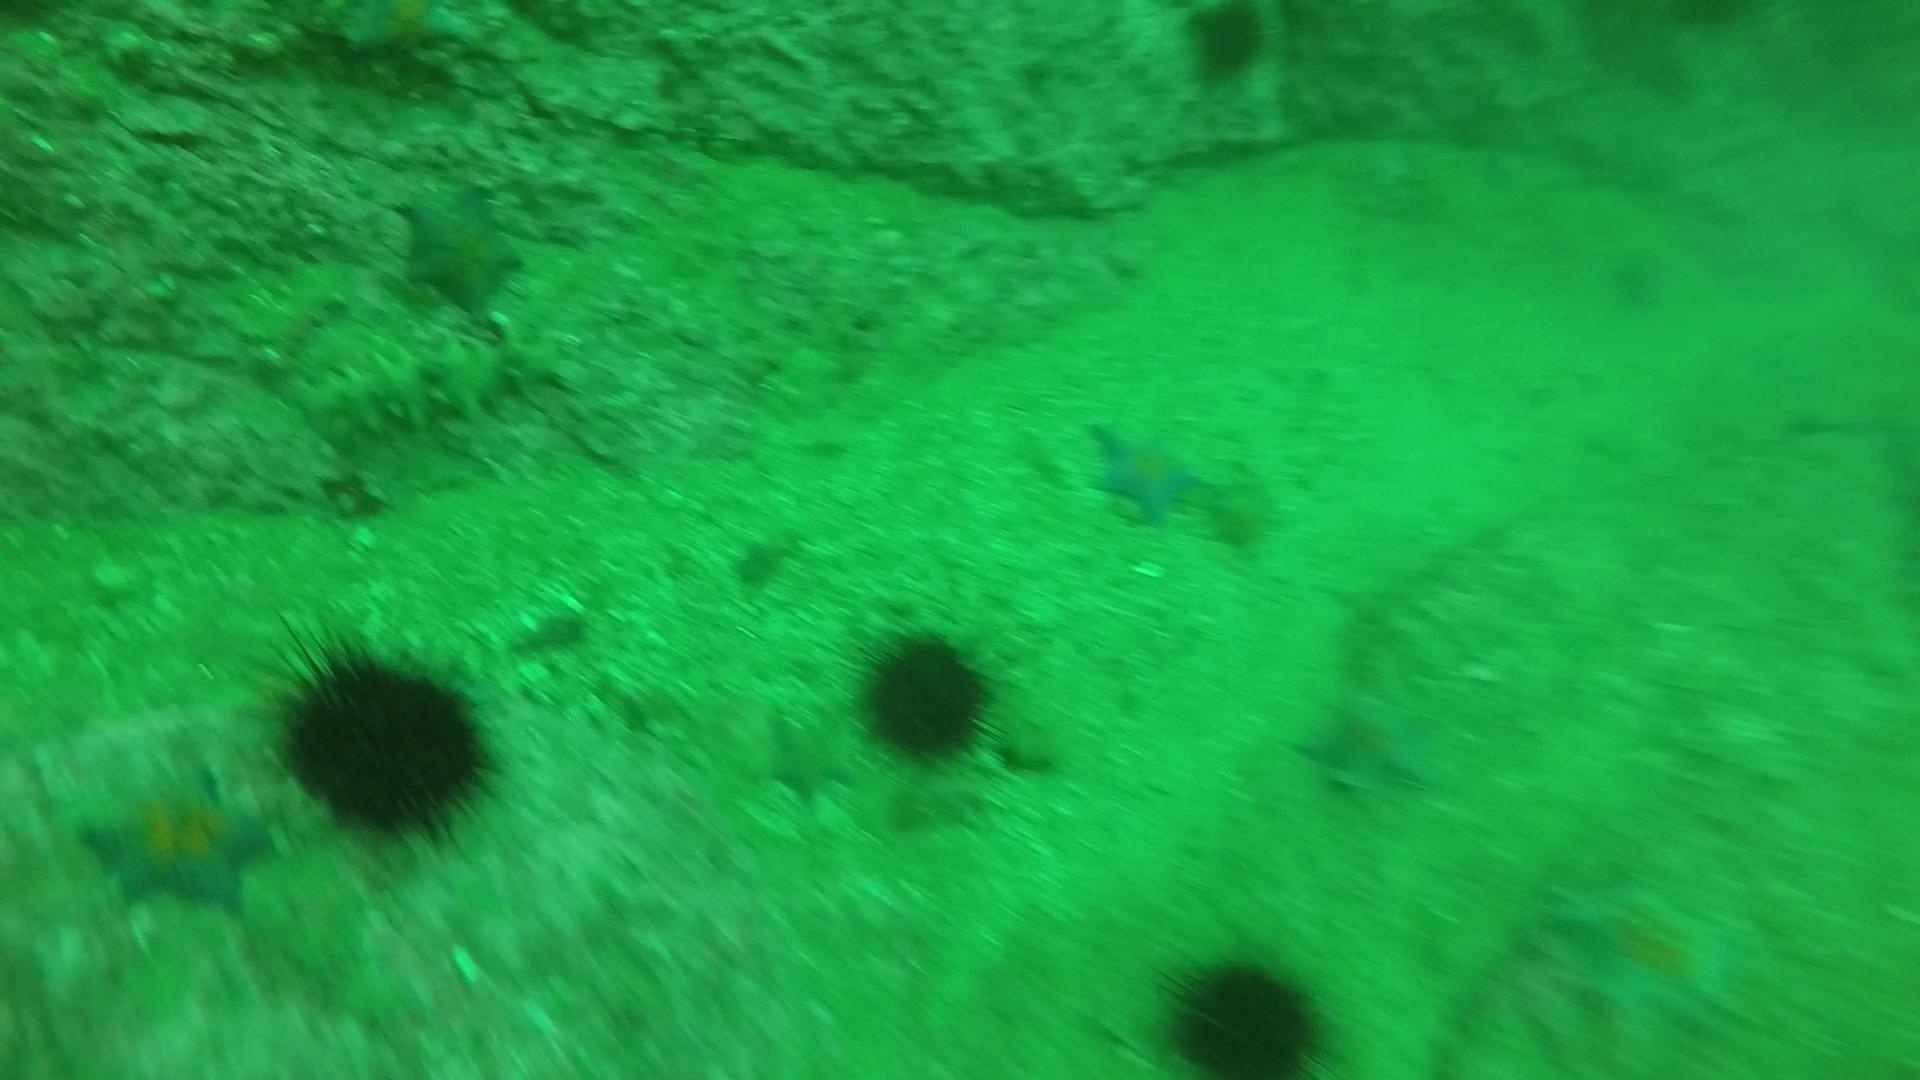echinus: (260, 630, 506, 848), (1154, 945, 1333, 1076), (851, 622, 1004, 767), (1176, 1, 1274, 90)
holothurian: (302, 323, 575, 448), (225, 257, 361, 361)
starfish: (1540, 869, 1751, 1033), (71, 756, 280, 918), (390, 179, 531, 320), (1290, 683, 1443, 802), (1083, 413, 1213, 527), (335, 1, 491, 69), (760, 707, 858, 808)
